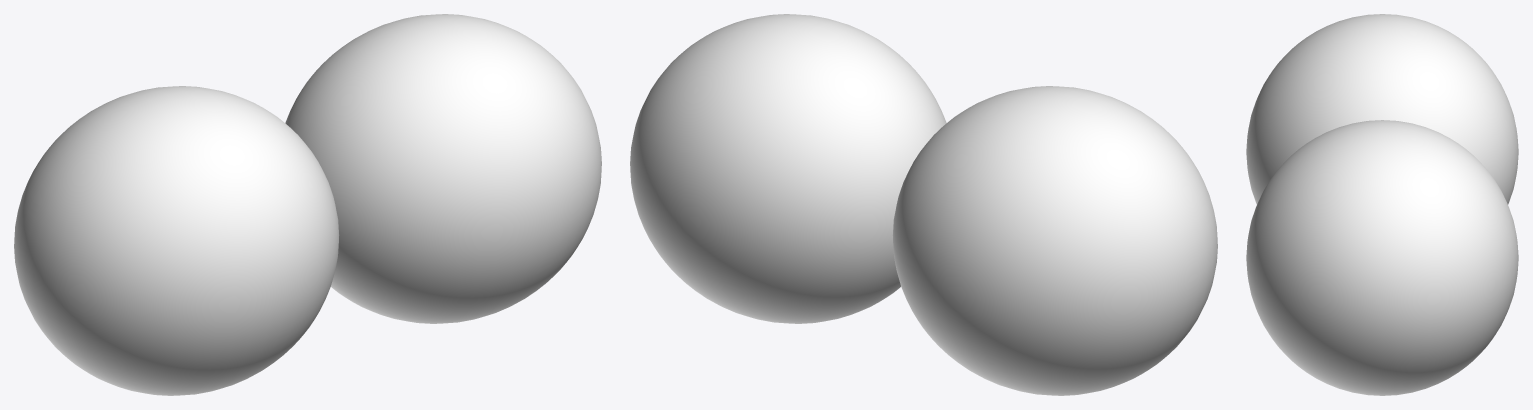
File: hydro.glb
3 views of the same model, side by side, from view 1: azimuth 30°, elevation 25°; view 2: azimuth 150°, elevation 25°; view 3: azimuth 270°, elevation 25° (orthographic). The views are drawn at different scales.
Bounding box in the file's own units: 0.2099 × 0.1052 × 0.1023.
Materials: 1 (1 with a texture image).
